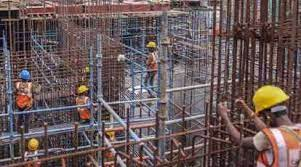arm: (212, 96, 264, 150)
face: (145, 44, 154, 53)
footwear: (146, 88, 158, 98)
helmet: (249, 80, 295, 121), (24, 134, 40, 149), (74, 81, 90, 94), (17, 66, 33, 79), (144, 39, 157, 49)
human: (232, 74, 300, 165), (139, 36, 167, 103), (9, 63, 40, 123), (70, 79, 98, 141), (20, 133, 44, 166)
leg: (144, 70, 160, 99)
vest: (253, 122, 300, 165), (13, 78, 34, 107), (74, 94, 92, 119), (143, 50, 160, 72)
